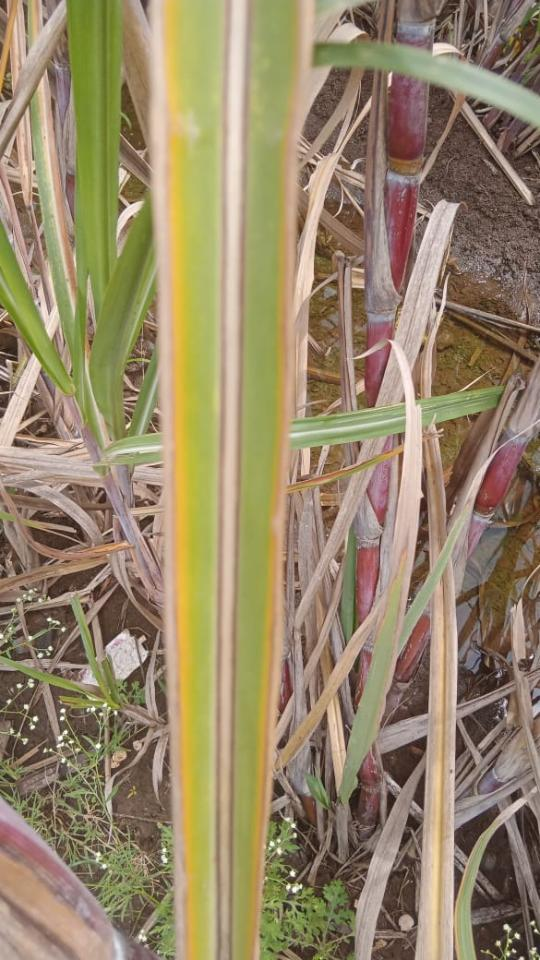Yellow: (249, 0, 301, 959), (162, 0, 203, 959)
